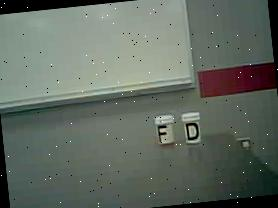Bottle D: (180, 108, 208, 150)
Bottle F: (151, 110, 179, 150)
